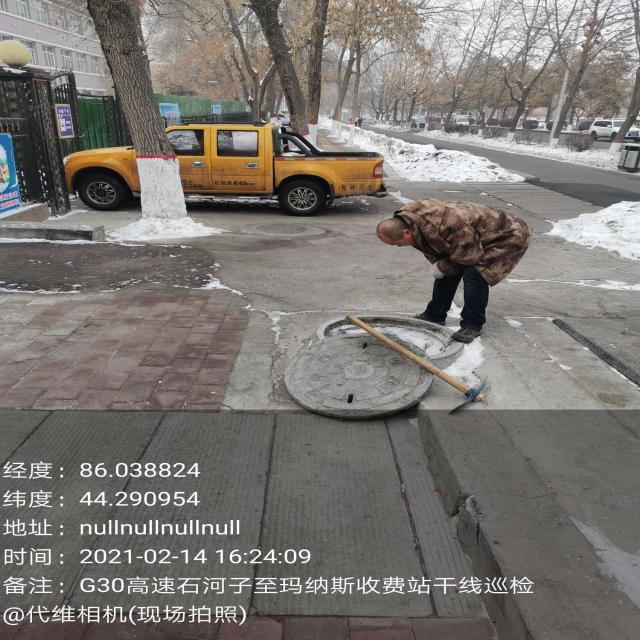manhole: (272, 313, 488, 421)
